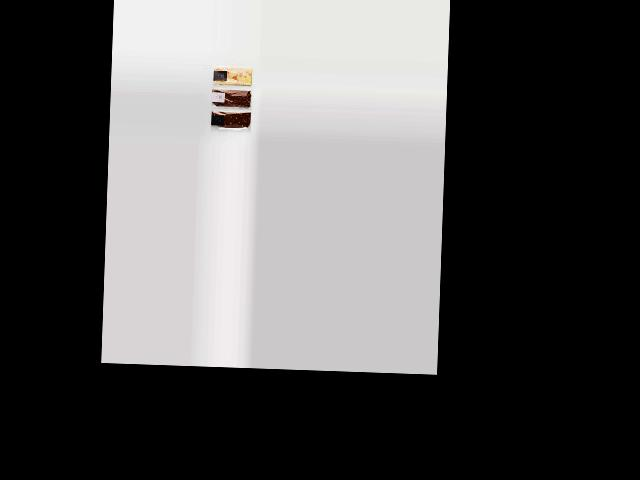chocolate: (211, 112, 252, 131)
